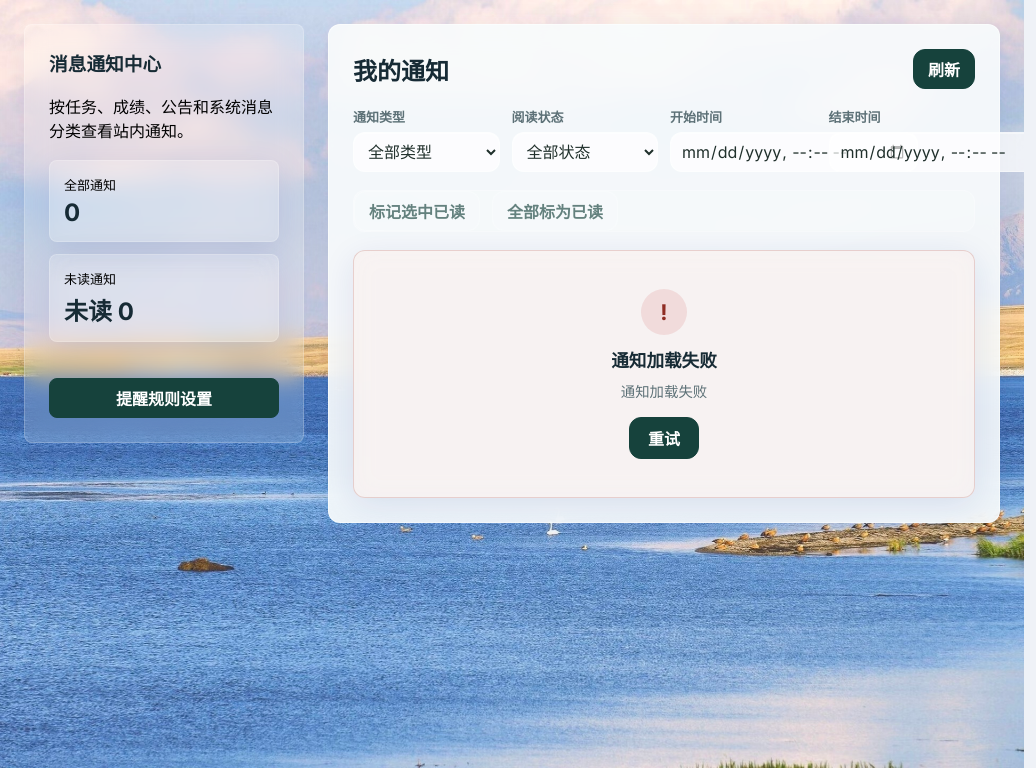
NotificationCenterView › shows loading failures and retries the notification query
Click the button with test id "page-state-retry". click: (664, 438)
box: [629,417,699,459]
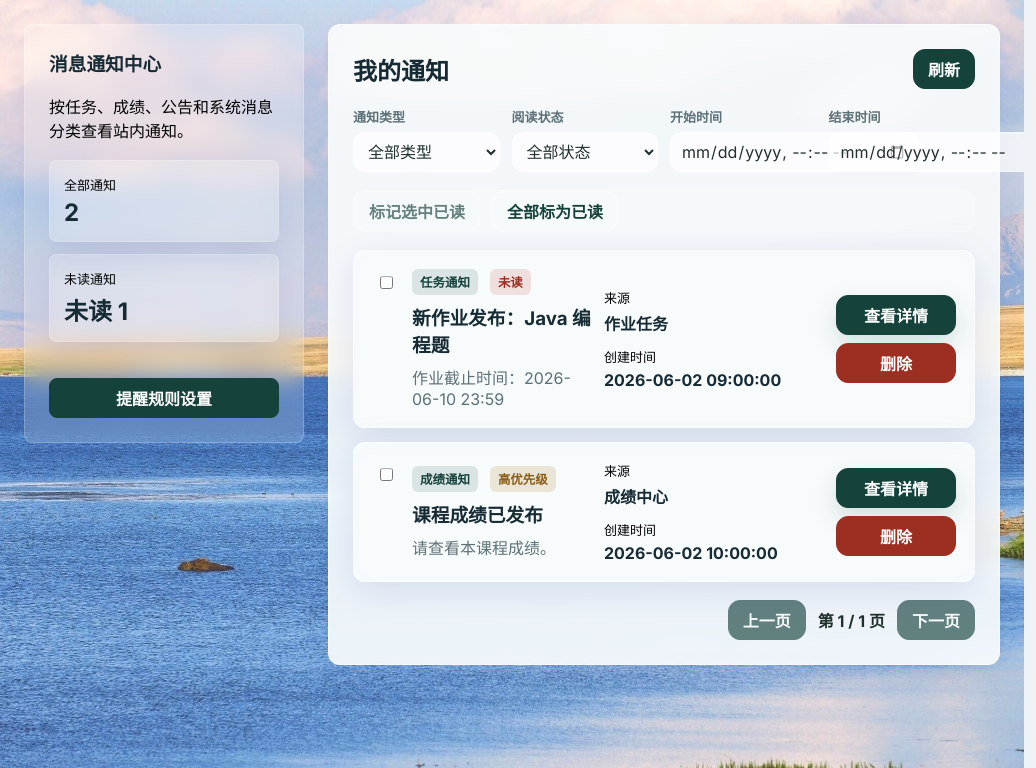
Expected: the text "新作业发布：Java 编程题" is shown, [412,303,592,357]
